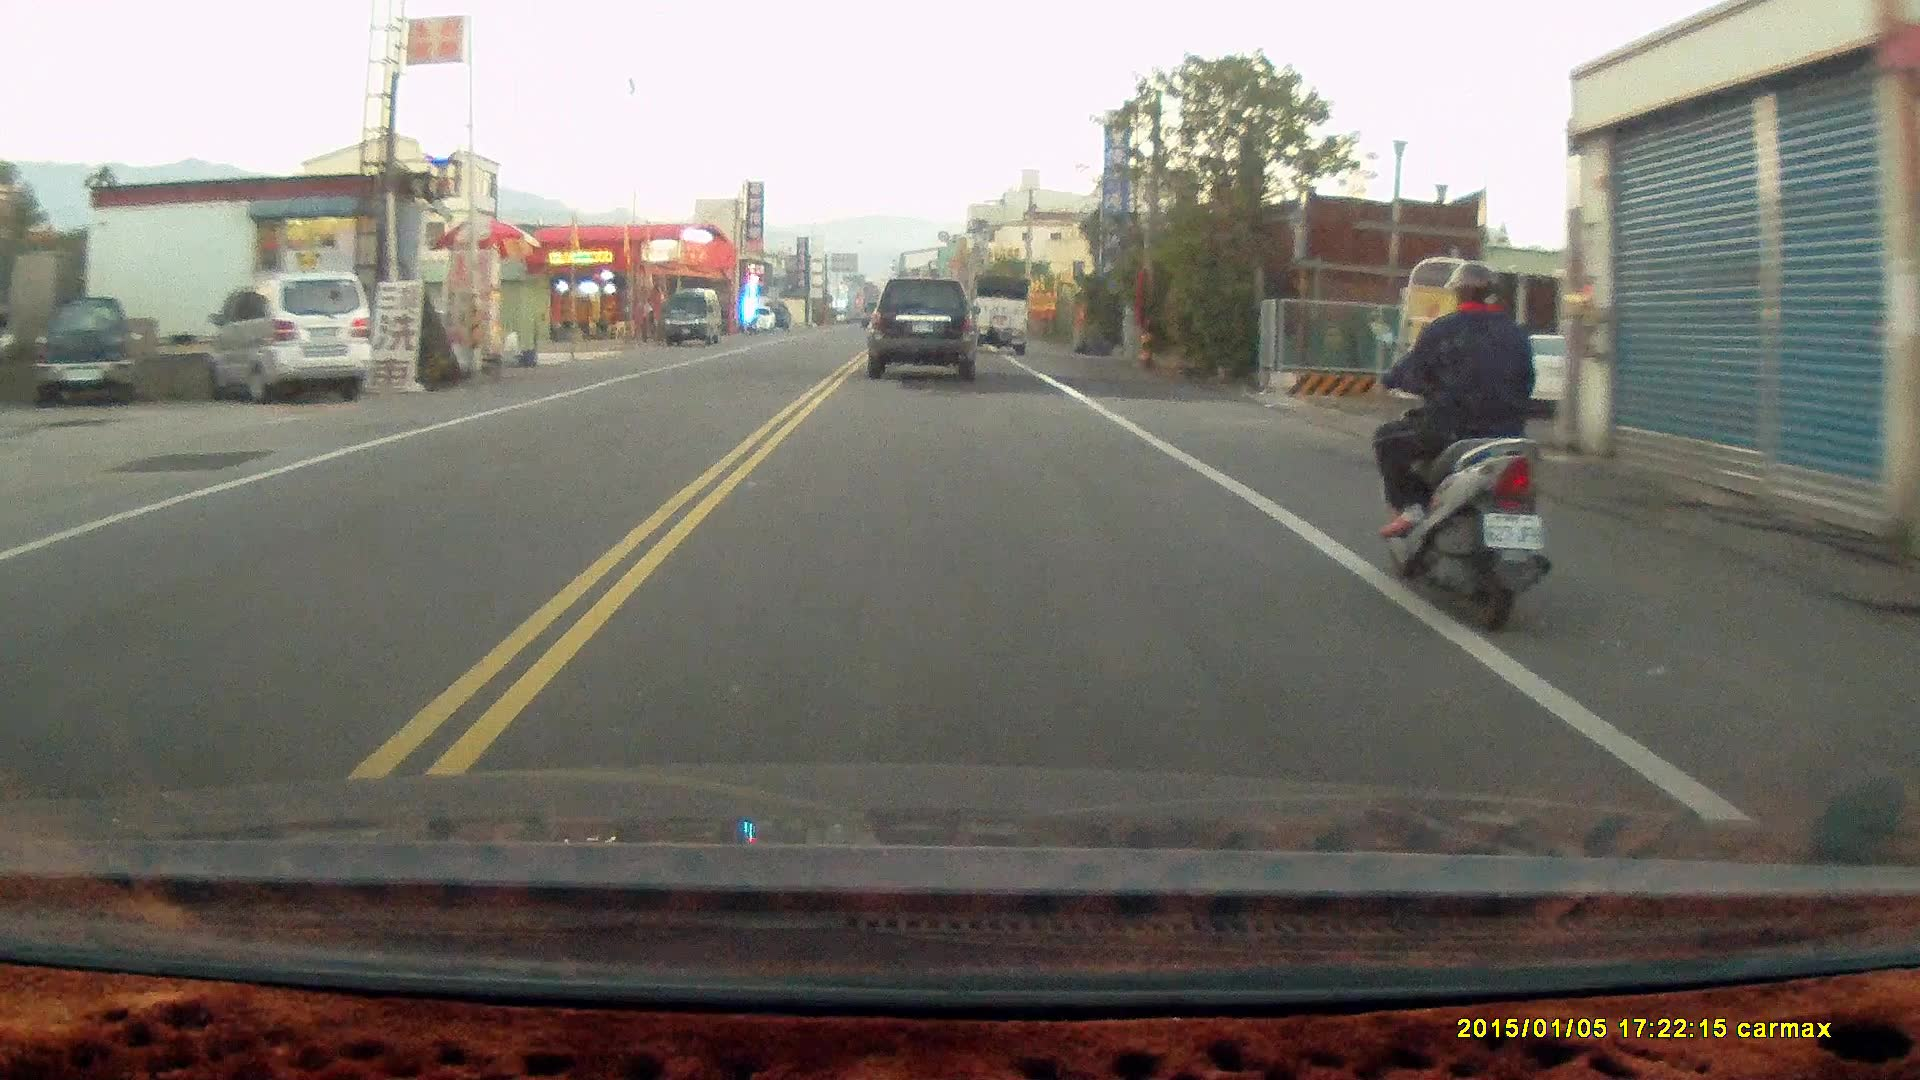rider: (1367, 256, 1549, 634)
vehicle: (207, 269, 375, 408), (868, 276, 982, 385), (33, 296, 137, 409), (970, 277, 1032, 358), (663, 288, 721, 347)
